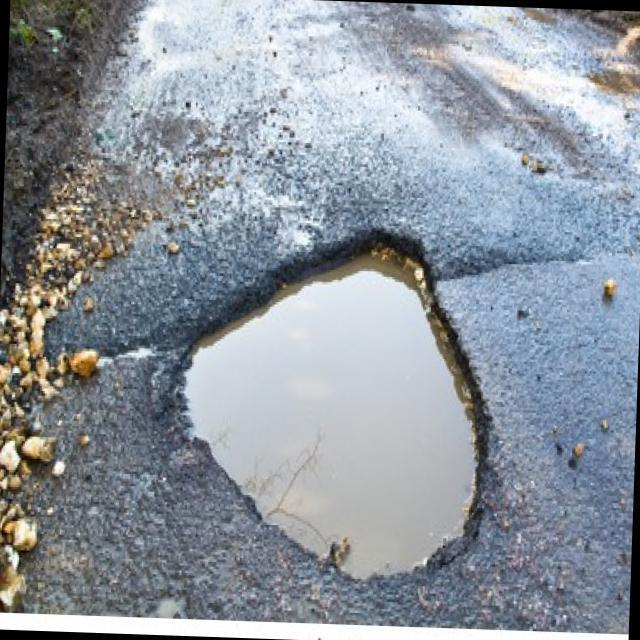pothole: (165, 216, 504, 586)
